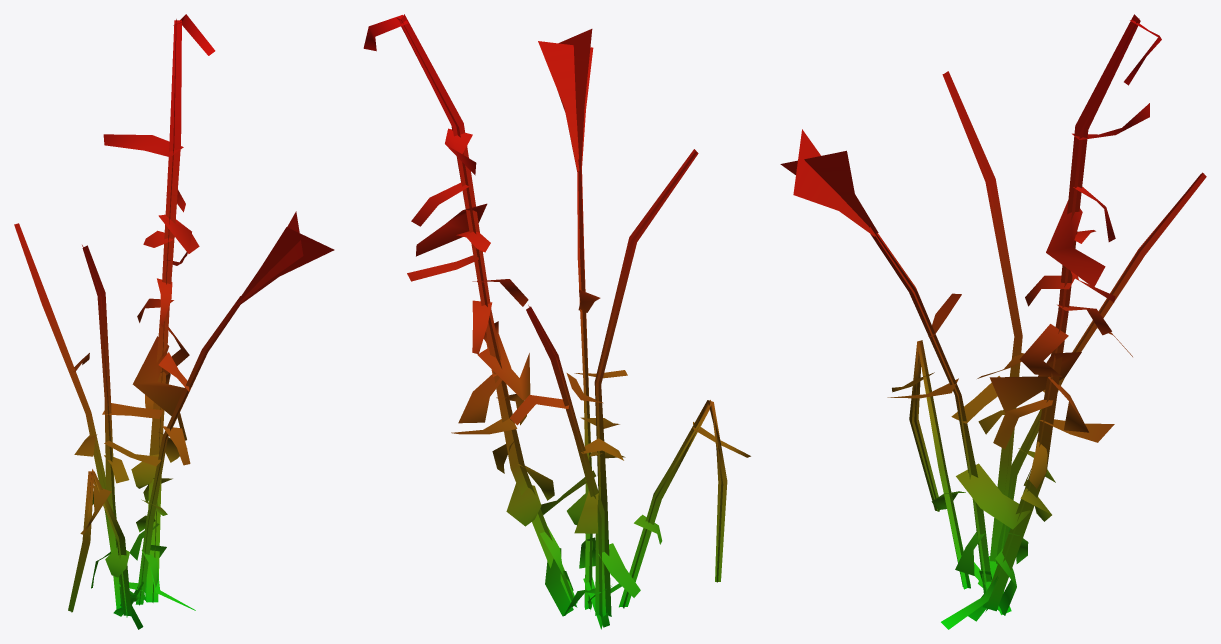
Rendered from Willowherb_LOD2_Var4_tbfpbbhr.fbx.
The picture shows the model from 3 angles, left to right: view 1: azimuth 30°, elevation 25°; view 2: azimuth 150°, elevation 25°; view 3: azimuth 270°, elevation 25°; orthographic projection. The views are drawn at different scales.
Parts seen in each view (by area): view 1: _768f_Var4_LOD2; view 2: _768f_Var4_LOD2; view 3: _768f_Var4_LOD2.
Boxes of the visible parts, x1,y1,x2,y2 form: _768f_Var4_LOD2: (14,14,334,629); _768f_Var4_LOD2: (363,14,750,629); _768f_Var4_LOD2: (780,14,1206,629).
Bounding box in the file's own units: 7.91 × 17.68 × 10.21.
